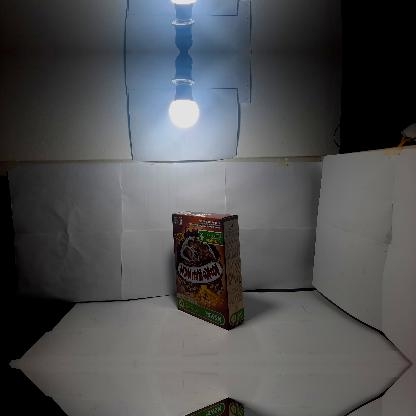Koko-Krunch: (172, 211, 244, 329)
